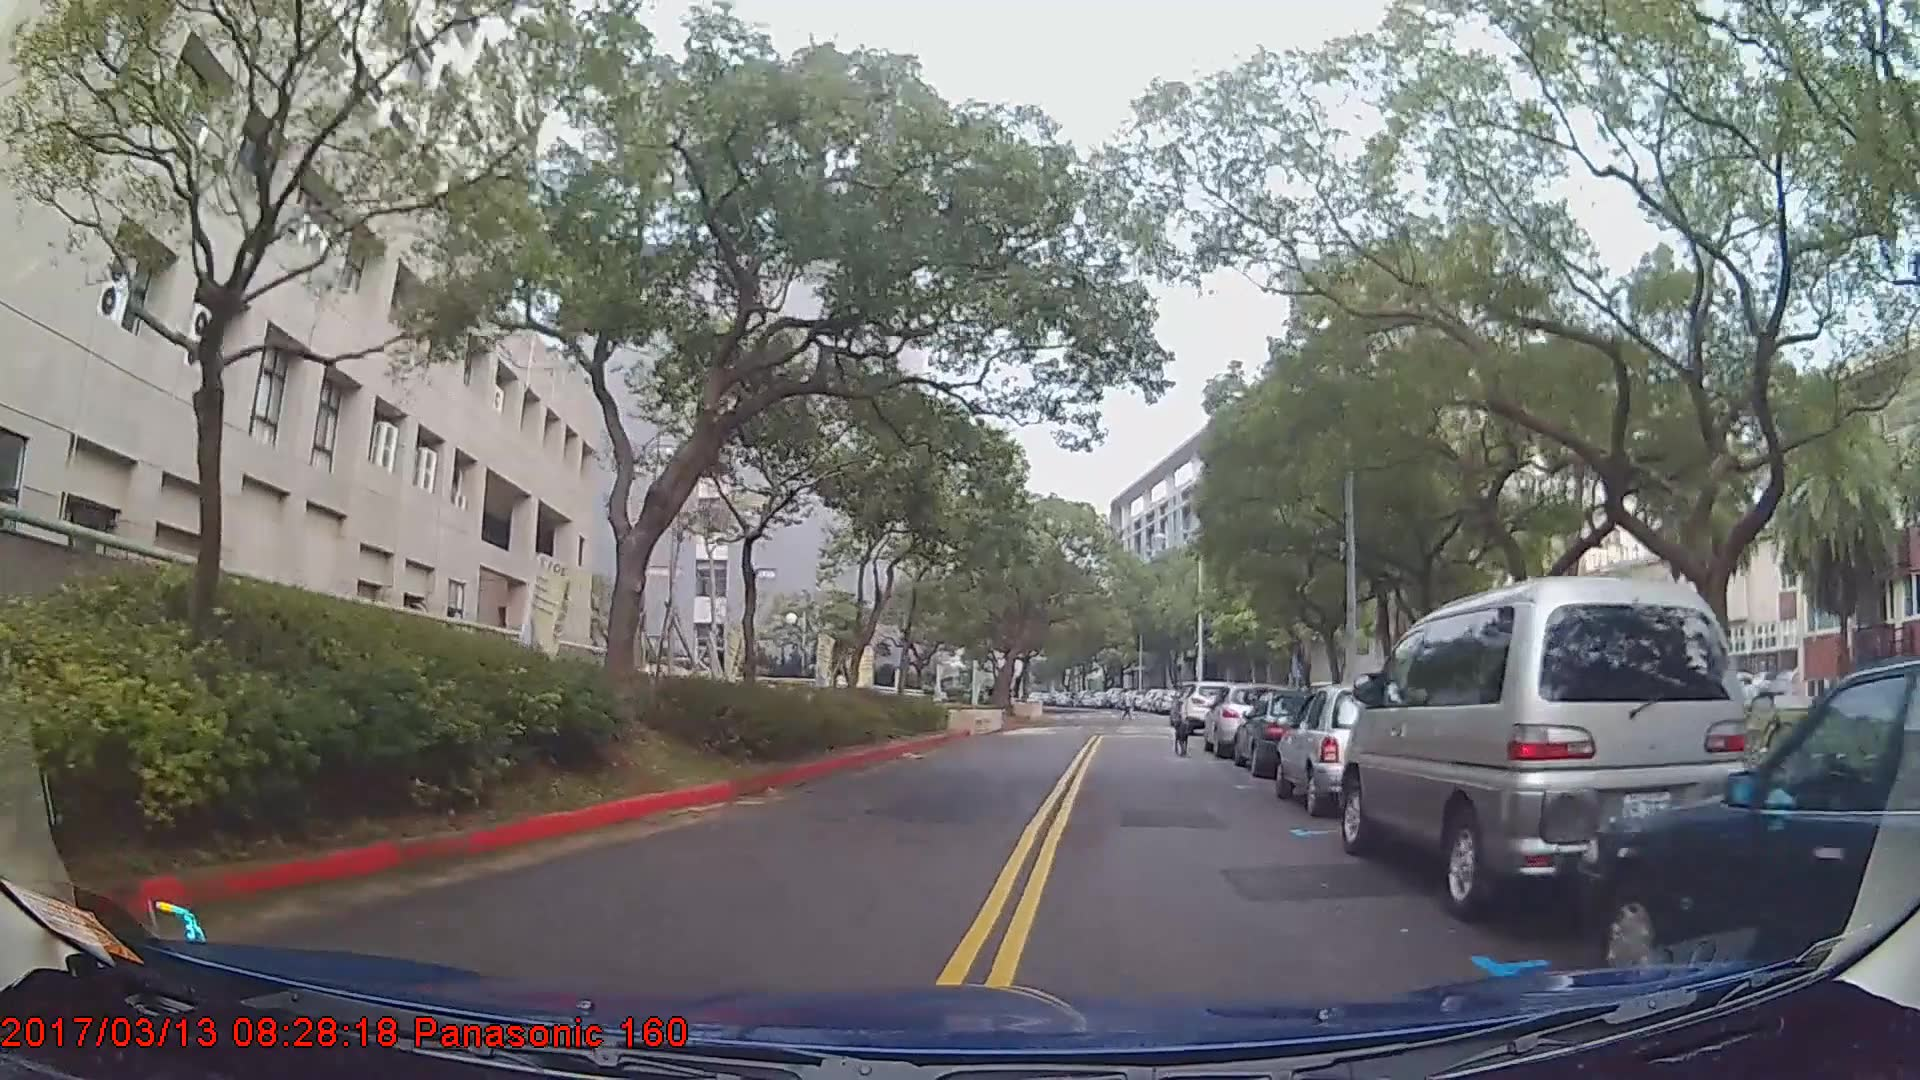vehicle: (1338, 574, 1755, 916), (1580, 659, 1920, 1021), (1273, 684, 1433, 815), (1204, 680, 1291, 756), (1178, 680, 1244, 735)
